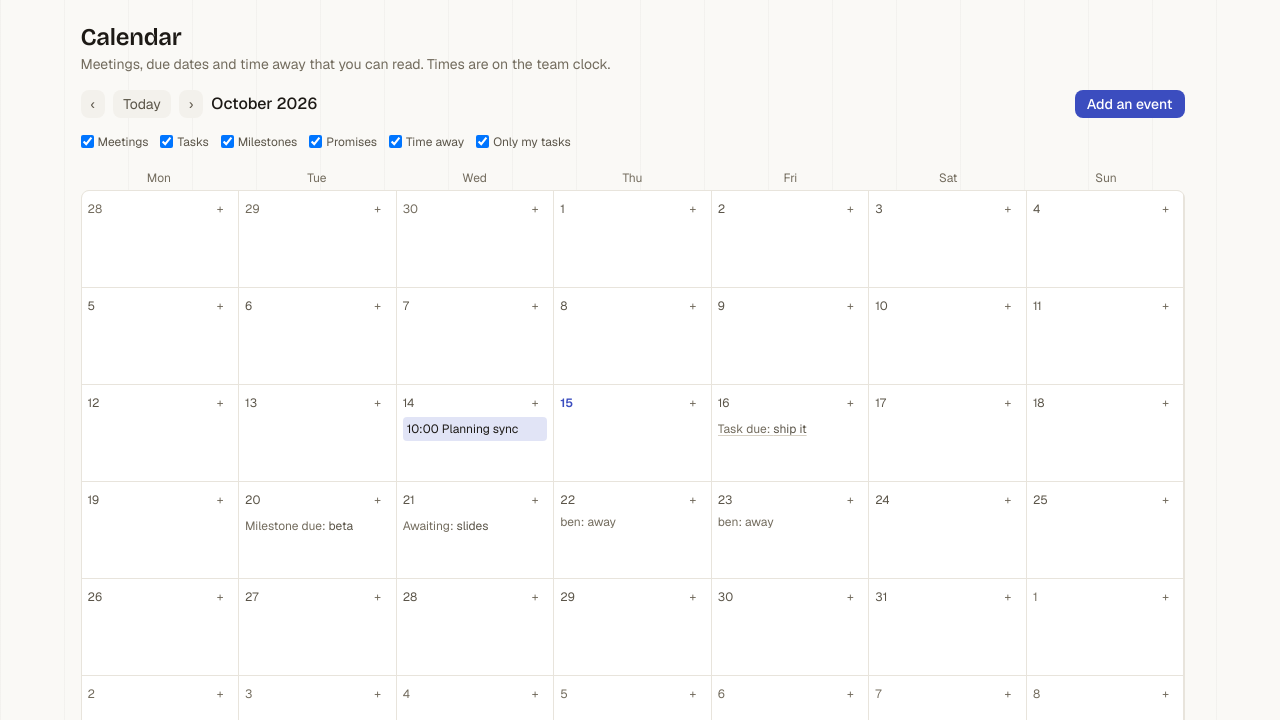
it: the Calendar page › links the agenda's references the server says this reader may open
The image size is (1280, 720).
Click the button "10:00 Planning sync".
click(475, 429)  # box [403,417,547,441]
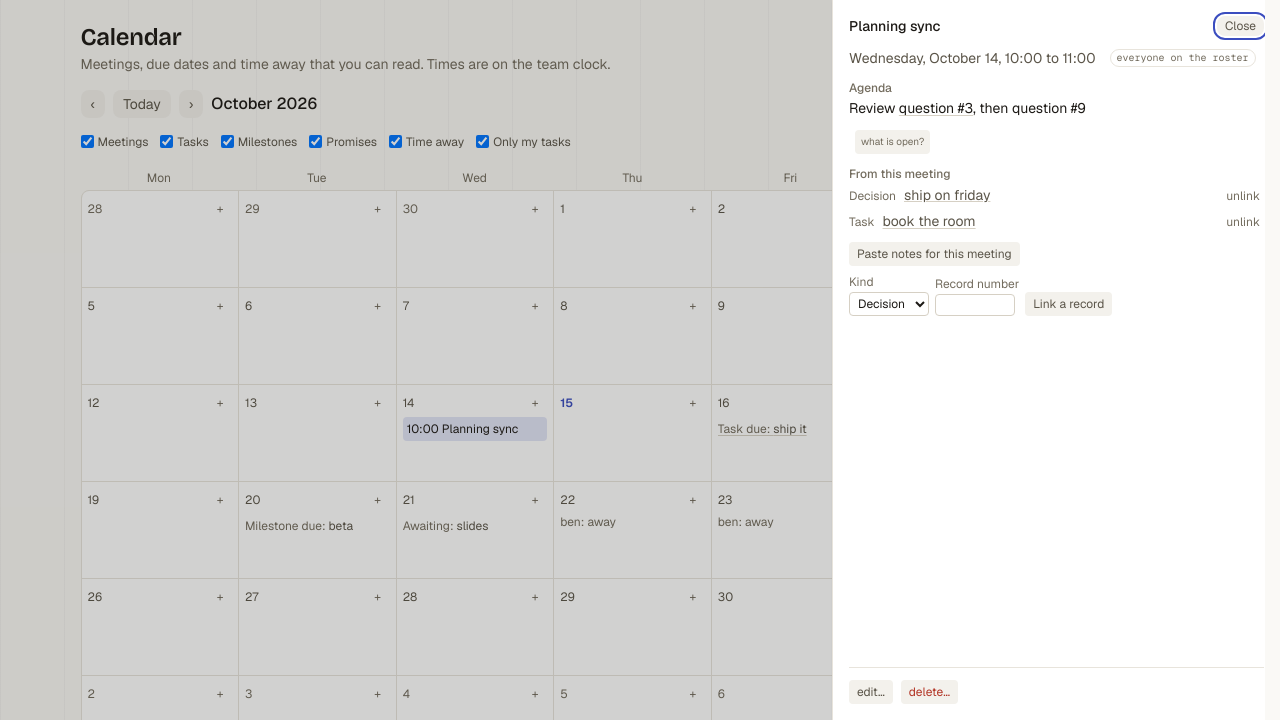
Expected: the text ", then question #9" is shown, [973,99,1086,117]
